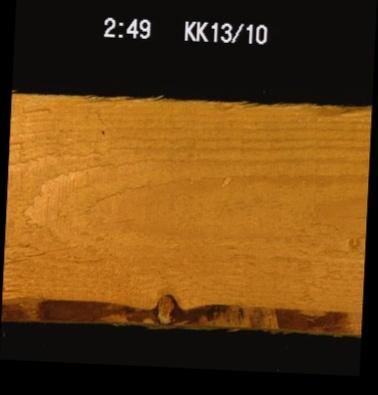split: (3, 237, 84, 266)
wave: (1, 292, 361, 327), (289, 103, 370, 118)
